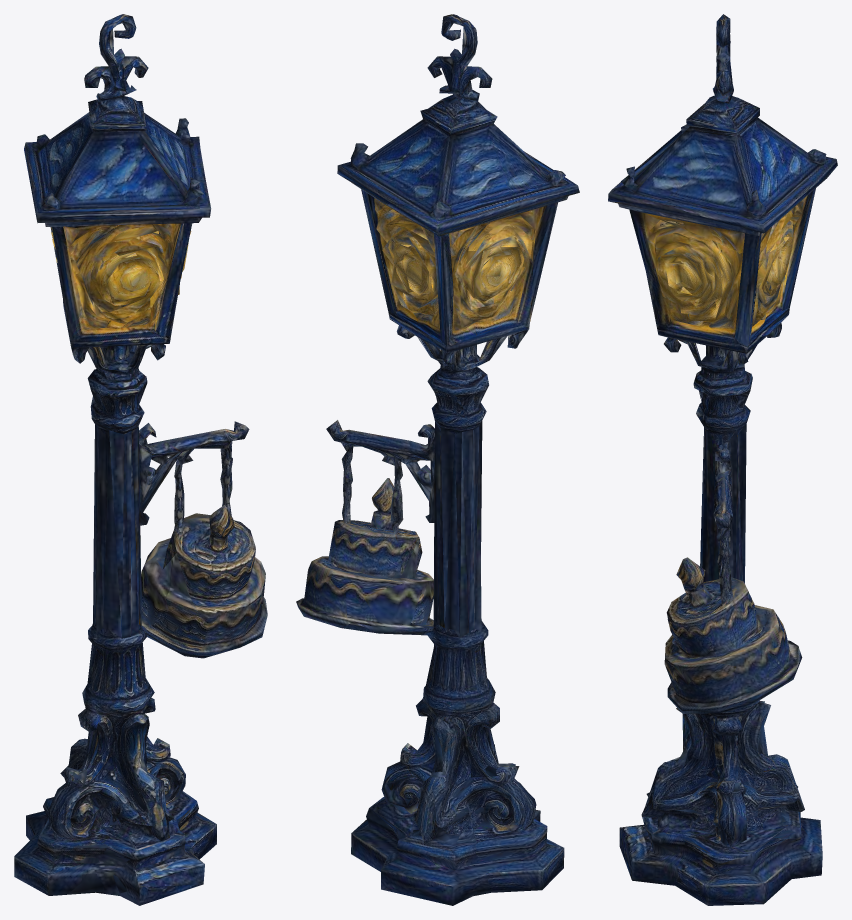
File: lantaarn.glb
3 renders of one model, left to right at view 1: azimuth 30°, elevation 25°; view 2: azimuth 150°, elevation 25°; view 3: azimuth 270°, elevation 25°, orthographic.
Visible parts, largest first — view 1: mesh_node; view 2: mesh_node; view 3: mesh_node.
Part boxes in pixels (left/top/right/bottom): mesh_node: left=14, top=14, right=267, bottom=905; mesh_node: left=296, top=14, right=579, bottom=905; mesh_node: left=608, top=14, right=837, bottom=905.
Bounding box in the file's own units: 0.6153 × 2 × 0.4929.
1 material, 1 textured.
